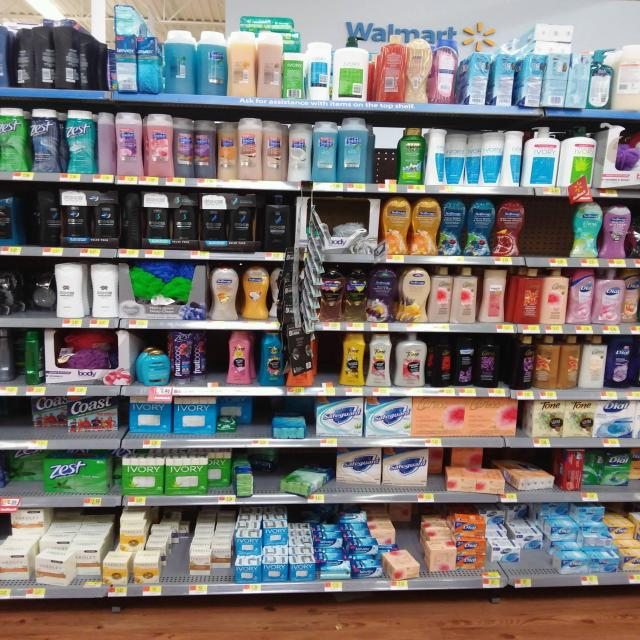empty_space: (524, 207, 566, 251), (373, 126, 399, 174), (170, 538, 187, 577), (326, 338, 341, 382), (7, 404, 25, 437)
